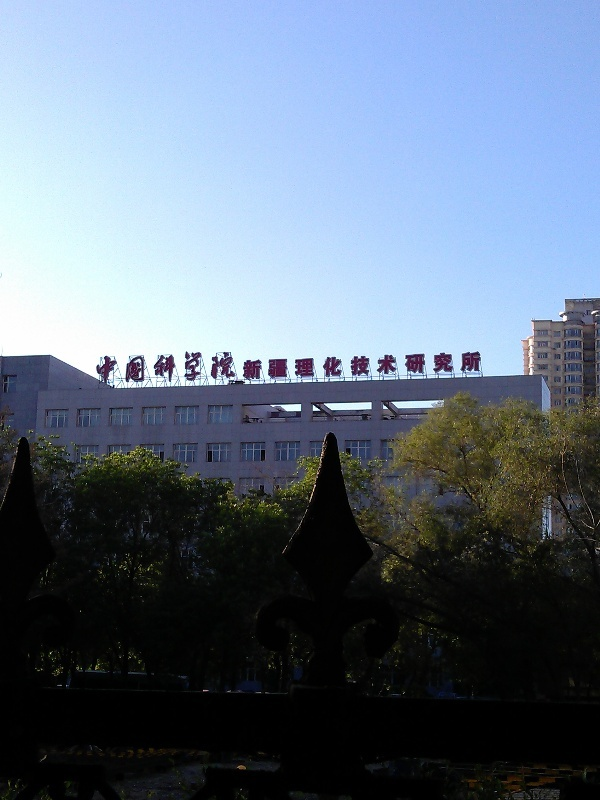text: (97, 350, 112, 385), (113, 350, 128, 385), (129, 350, 144, 385), (145, 350, 160, 385), (161, 350, 176, 385), (177, 350, 192, 385), (193, 350, 208, 385), (209, 350, 224, 385), (257, 349, 272, 383), (273, 349, 288, 383), (289, 349, 304, 383), (305, 349, 320, 383), (321, 349, 336, 383), (337, 349, 352, 383), (353, 349, 368, 383), (369, 349, 384, 383), (385, 349, 400, 383), (401, 349, 416, 383), (417, 349, 432, 383), (433, 349, 448, 383), (449, 349, 464, 383), (465, 349, 480, 383), (242, 349, 256, 383), (225, 350, 238, 385), (481, 349, 484, 383), (94, 350, 96, 385)
